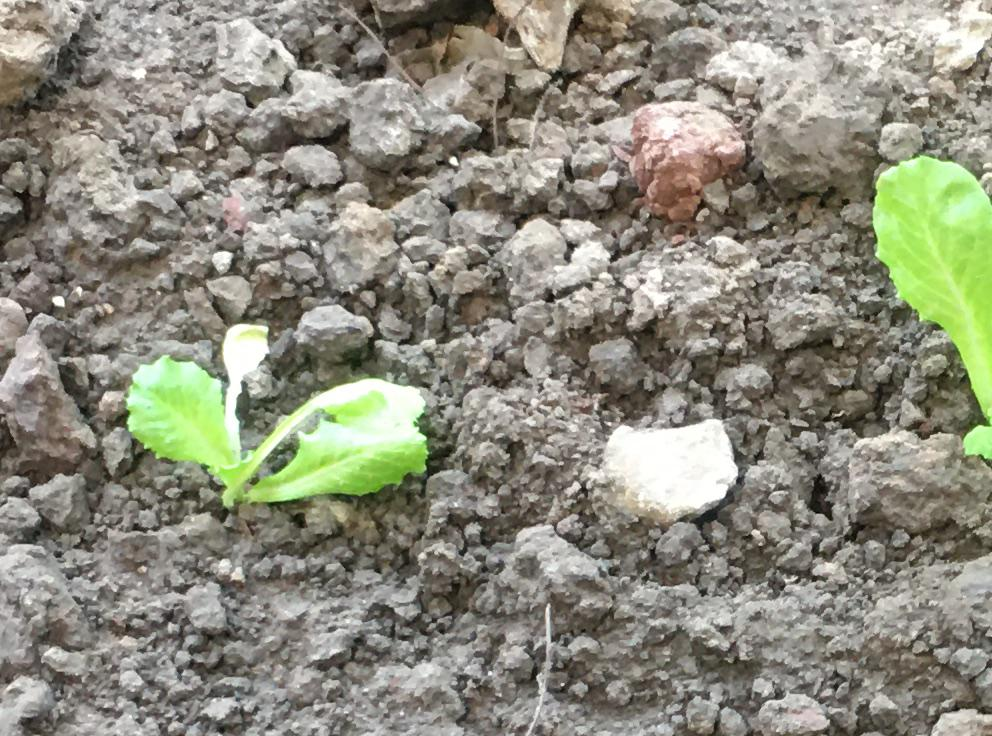block: (614, 99, 742, 236), (845, 430, 992, 542), (595, 417, 744, 522), (1, 323, 103, 474)
